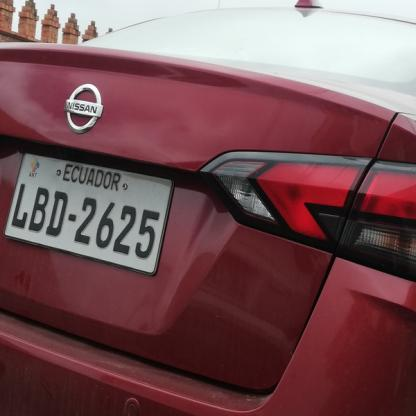Placa: (12, 140, 171, 279)
